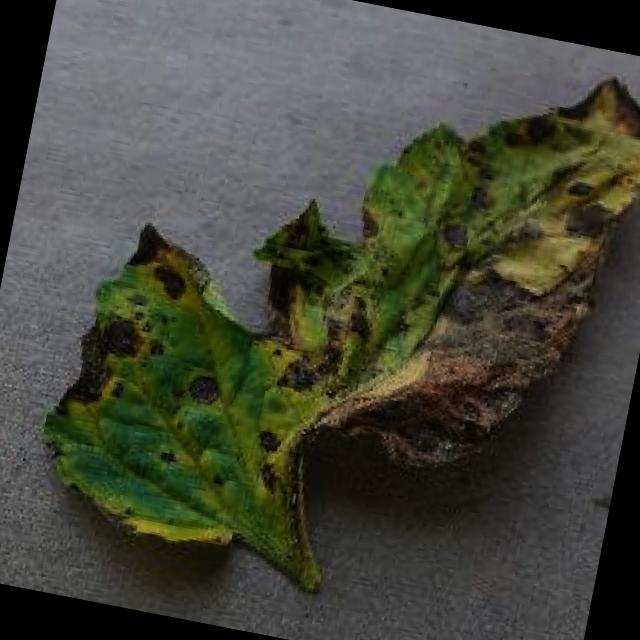Tomato Early blight leaf: (25, 0, 640, 638)
